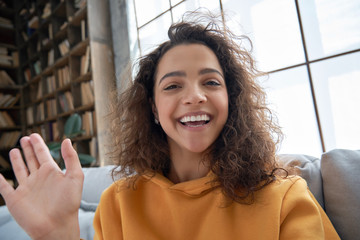teen: (124, 17, 265, 188)
